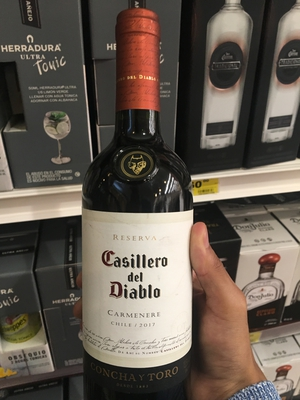casillero del diablo carmenere: (80, 13, 207, 393)
